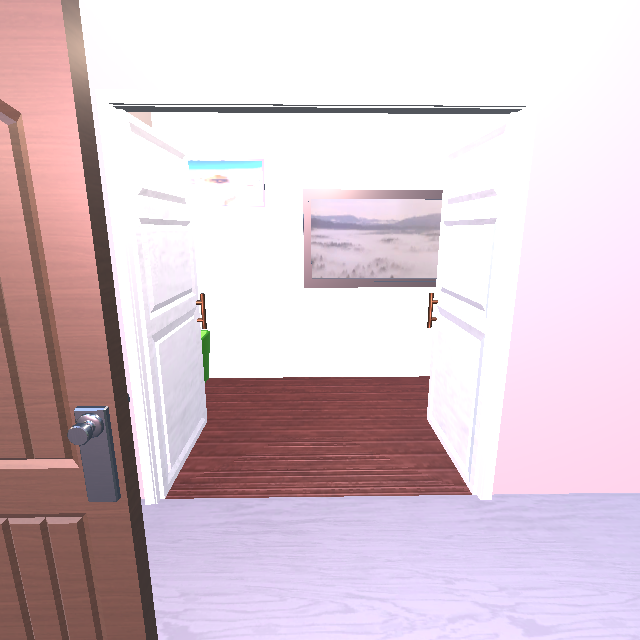open_doorway: (95, 89, 539, 504)
